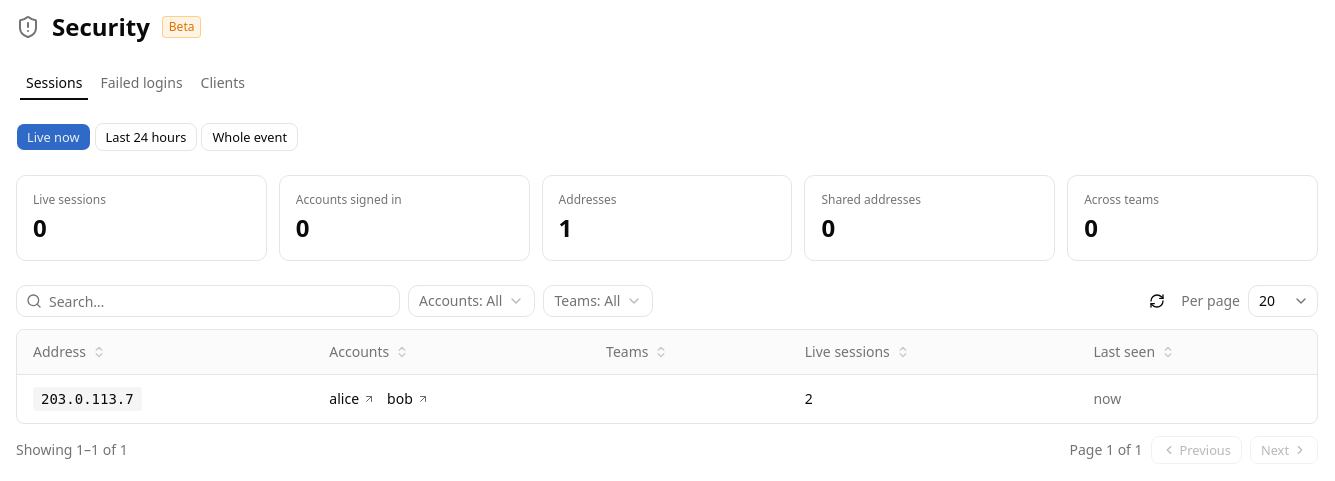
Scenario: groups failed logins by the address they came from
What coordinates should you click on to do the following:
click the tab "Failed logins"
I would click on:
 (142, 83)
Its box is [93,70,190,96].
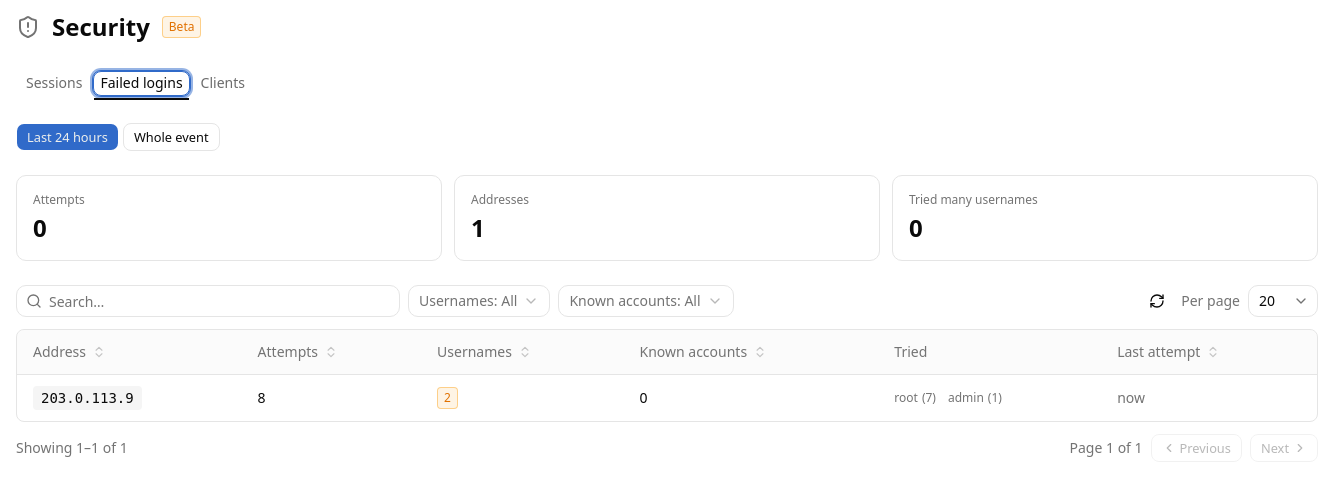
Expected: the text "203.0.113.9" is shown, [33,386,142,410]
Expected: the text "root" is shown, [894,390,918,406]
Expected: the text "(7)" is shown, [922,390,936,406]
